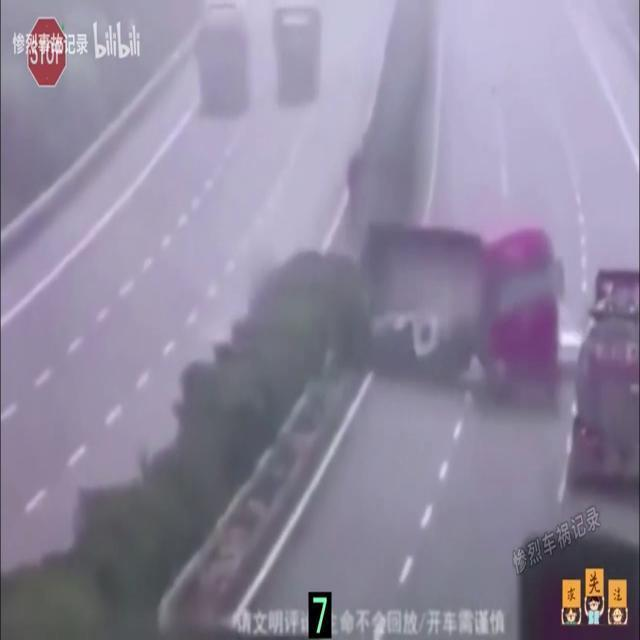accident: (352, 224, 562, 386)
